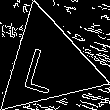L_N: (26, 36, 69, 94)
